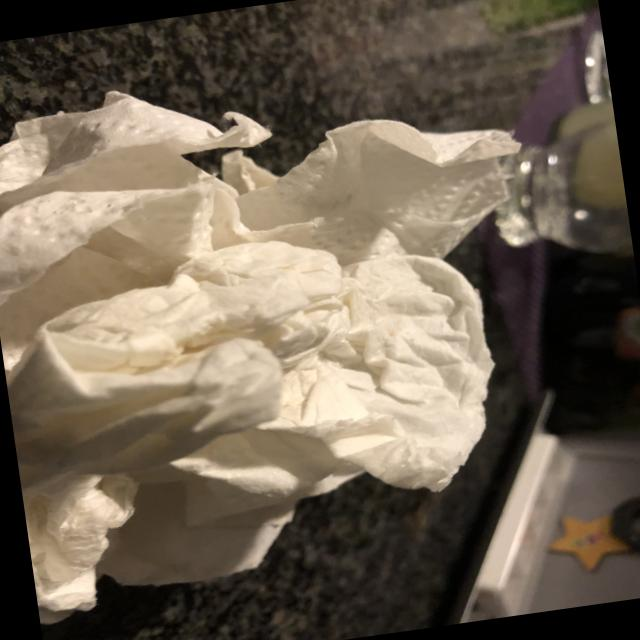organic waste: (0, 145, 524, 631), (0, 31, 531, 315)
